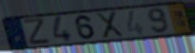4: (53, 15, 73, 44), (126, 9, 145, 37)
6: (75, 14, 97, 41)
9: (147, 7, 172, 34)
X: (94, 10, 126, 40)
Z: (22, 17, 52, 46)
